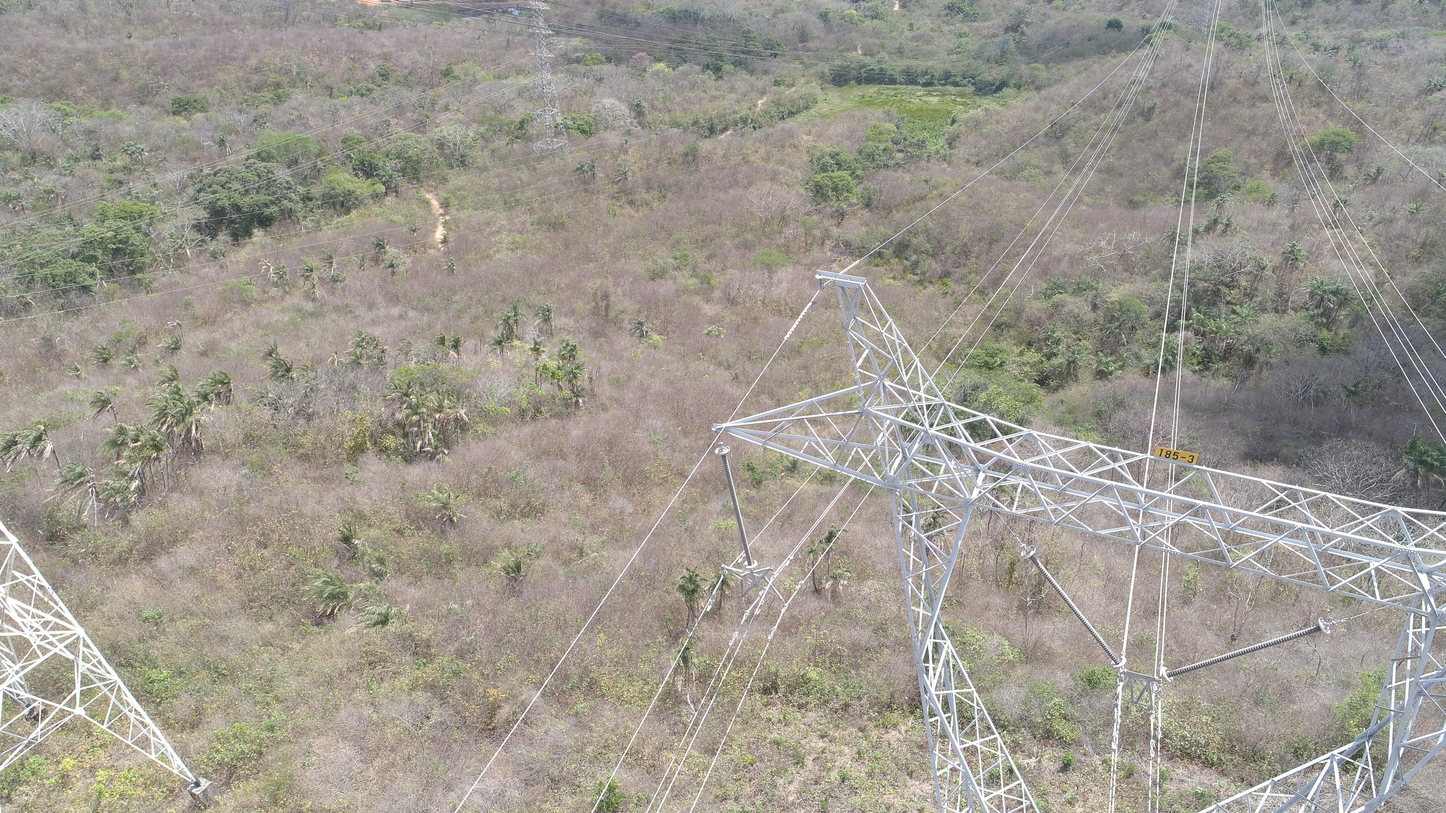power_tower: (712, 270, 1446, 812), (0, 520, 211, 802), (521, 0, 569, 165)
